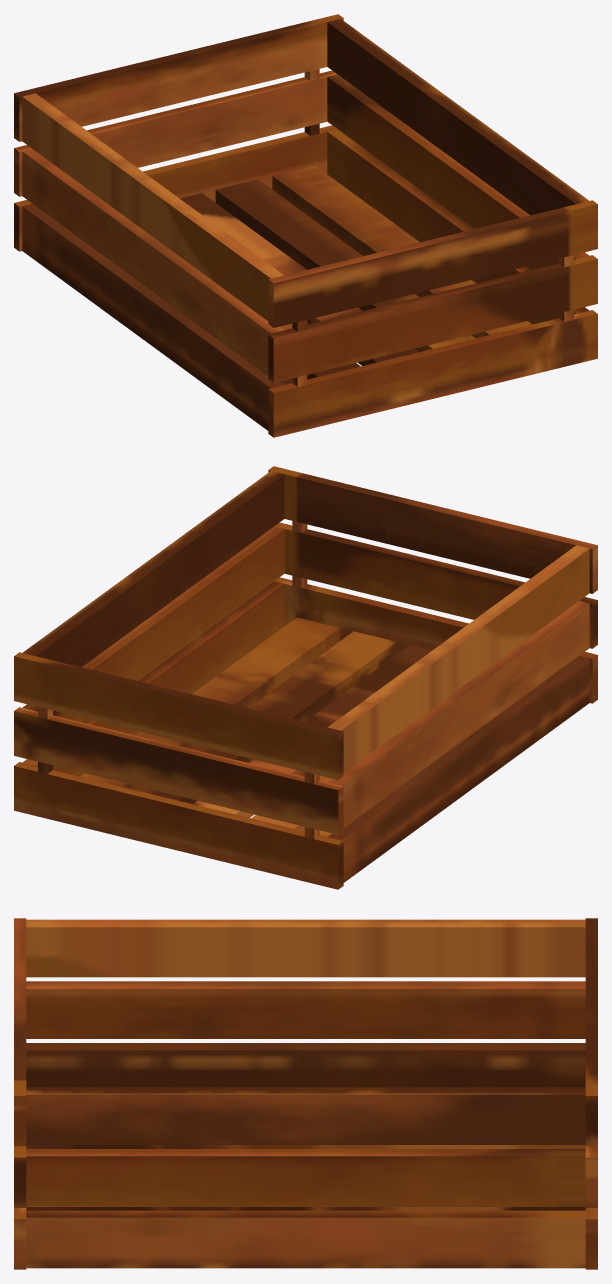
File: fruit crate_11.fbx
The picture shows the model from 3 angles, top to bottom: view 1: azimuth 30°, elevation 25°; view 2: azimuth 150°, elevation 25°; view 3: azimuth 270°, elevation 25°; orthographic projection. The views are drawn at different scales.
Visible parts, largest first — view 1: Cube.034; view 2: Cube.034; view 3: Cube.034.
Part boxes in pixels (<box>): Cube.034: <box>14,14,597,437</box>; Cube.034: <box>14,466,597,889</box>; Cube.034: <box>14,918,597,1269</box>.
Size of the model in its own units: 26.86 by 12.22 by 37.26.
